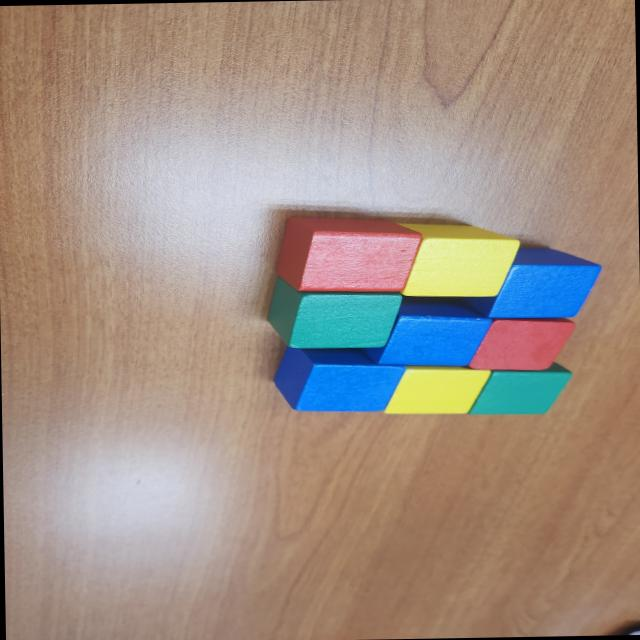blue: (458, 247, 603, 319), (272, 343, 407, 413), (358, 300, 494, 368)
green: (266, 273, 403, 349), (465, 360, 573, 414)
red: (273, 214, 424, 293), (463, 316, 577, 374)
yellow: (394, 221, 520, 298), (378, 363, 490, 415)
